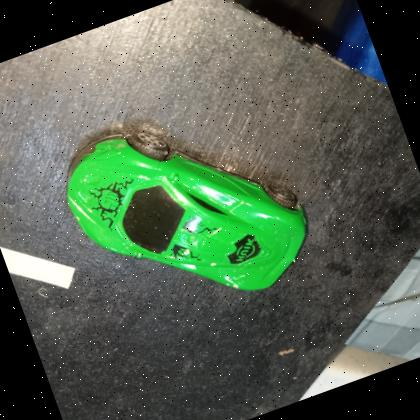Car: (66, 134, 308, 291)
